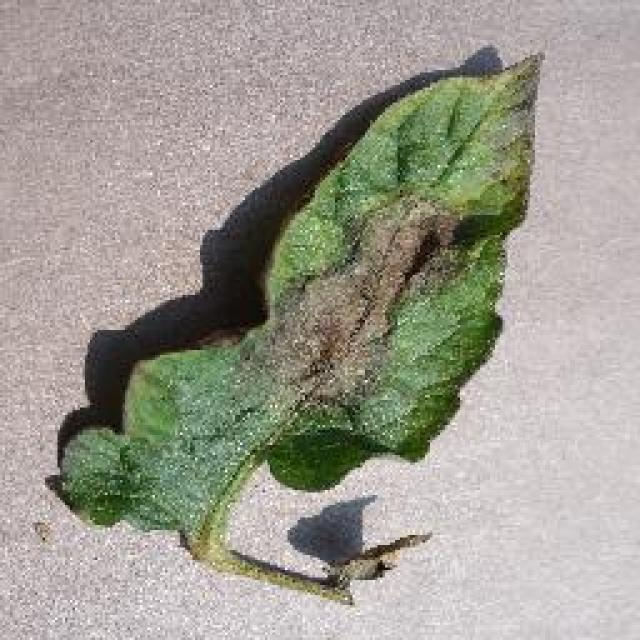Tomato Late Blight: (212, 185, 478, 432)
